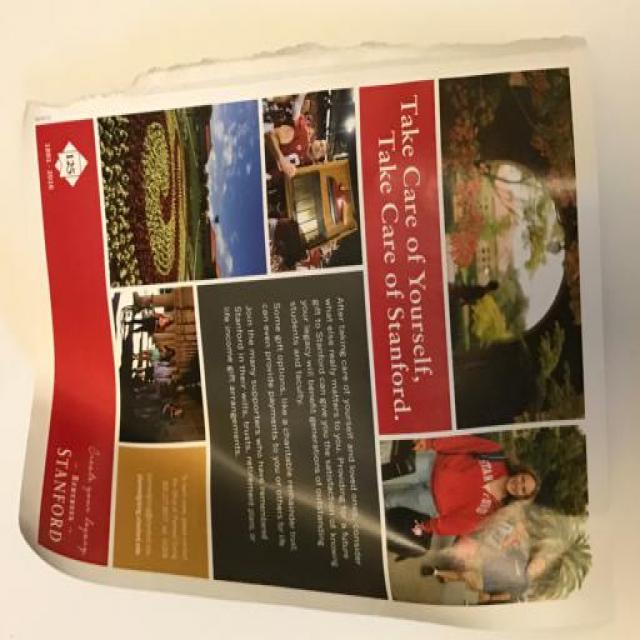paper: (11, 34, 640, 640)
